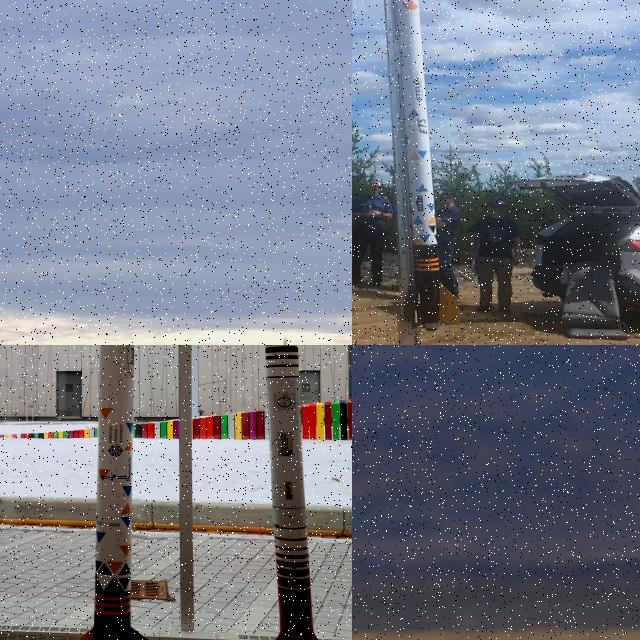Rocket: (394, 0, 460, 331), (77, 345, 149, 640), (265, 345, 319, 640), (280, 337, 288, 345)
